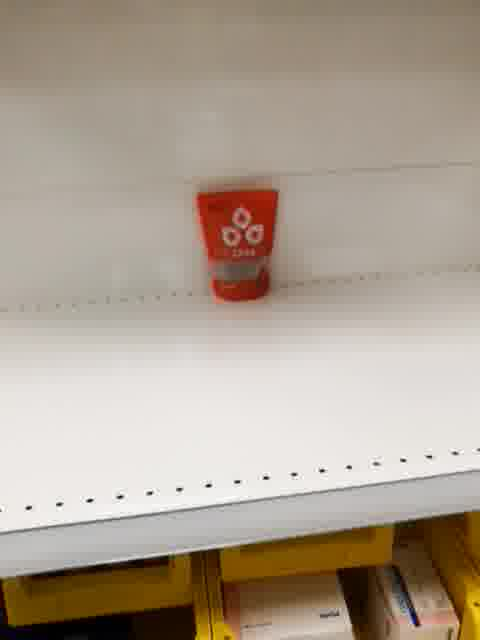whitechia: (194, 187, 281, 305)
